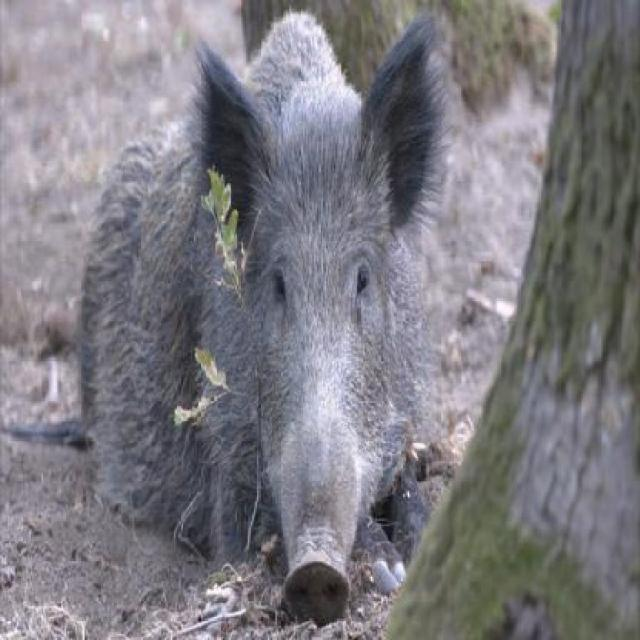Wild Boar: (0, 9, 449, 634)
